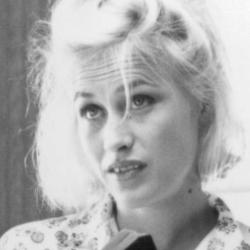face: (17, 1, 240, 213)
